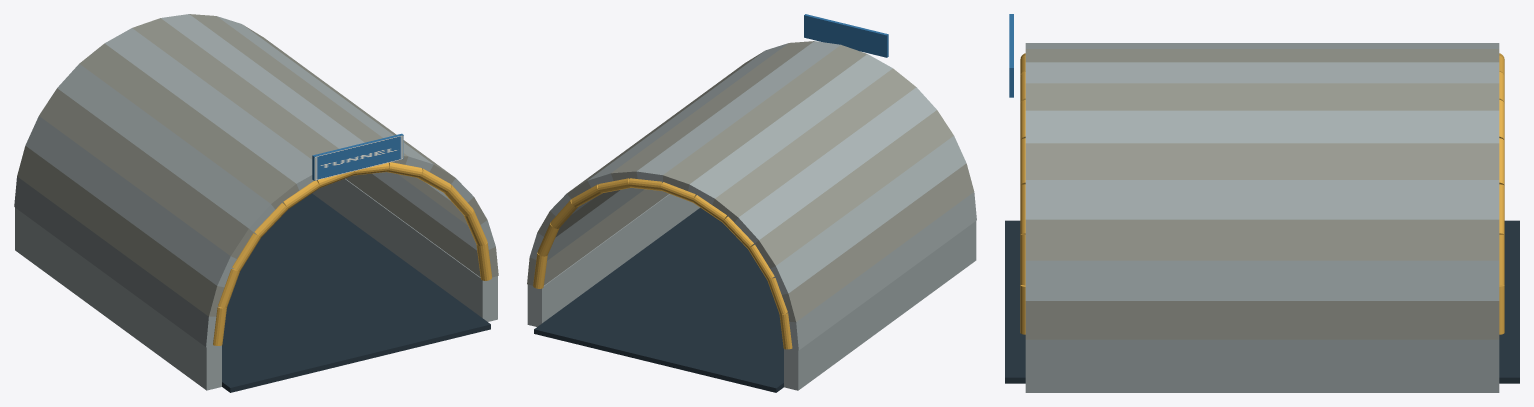
Rendered from scendance-plan-tunnel-entry-exit.glb.
3 renders of one model, left to right at view 1: azimuth 30°, elevation 25°; view 2: azimuth 150°, elevation 25°; view 3: azimuth 270°, elevation 25°, orthographic. The views are drawn at different scales.
Bounding box in the file's own units: 4.58 × 3.2 × 5.65.
Materials: 6 (1 with a texture image).
